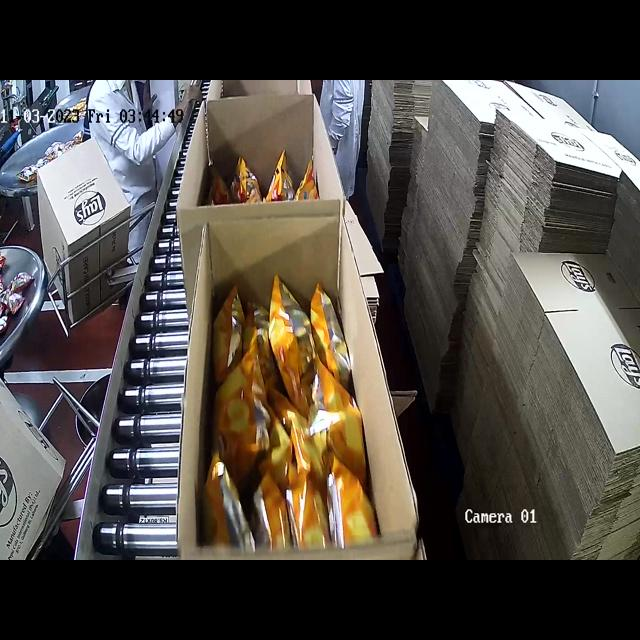cheese: (235, 284, 372, 560), (213, 140, 361, 212)
